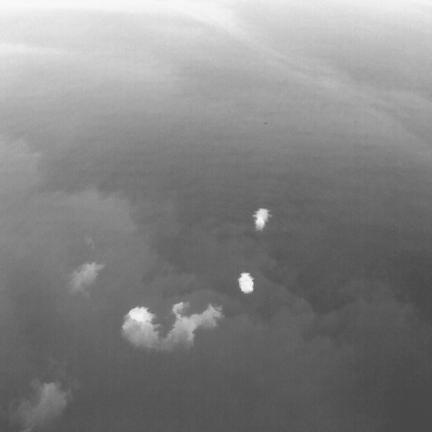flukeprints: (128, 307, 154, 324), (253, 208, 269, 230), (238, 273, 253, 293)
